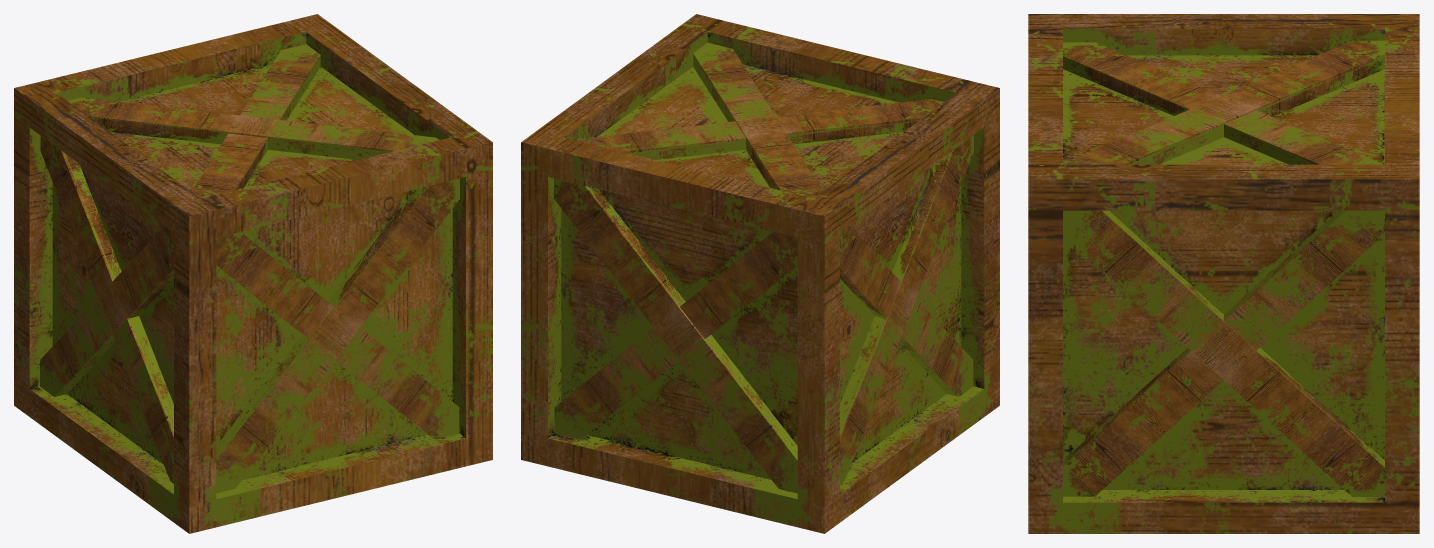
3 renders of one model, left to right at view 1: azimuth 30°, elevation 25°; view 2: azimuth 150°, elevation 25°; view 3: azimuth 270°, elevation 25°, orthographic. The views are drawn at different scales.
Parts seen in each view (by area): view 1: Cube_13; view 2: Cube_13; view 3: Cube_13.
Boxes of the visible parts, box(x1,y1,x2,y2) form: Cube_13: box(14, 14, 492, 533); Cube_13: box(521, 14, 999, 533); Cube_13: box(1028, 14, 1419, 533).
Bounding box in the file's own units: 200 × 200 × 200.
1 material, 1 textured.
